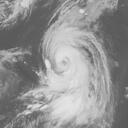cyclone: (40, 29, 100, 96)
